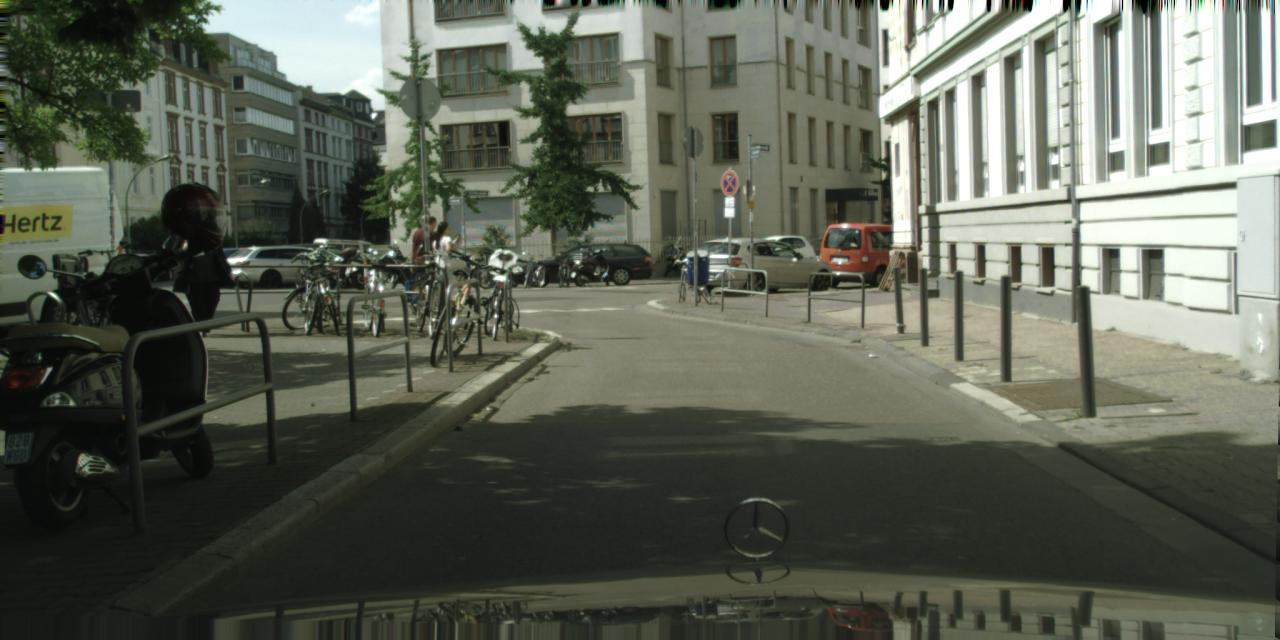ped: (179, 205, 229, 329), (407, 215, 446, 312), (423, 221, 459, 309), (444, 234, 466, 286)
